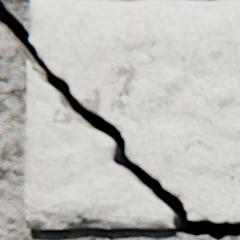broken_brick: (31, 0, 239, 223), (26, 62, 175, 229)
crack: (0, 0, 239, 239)
